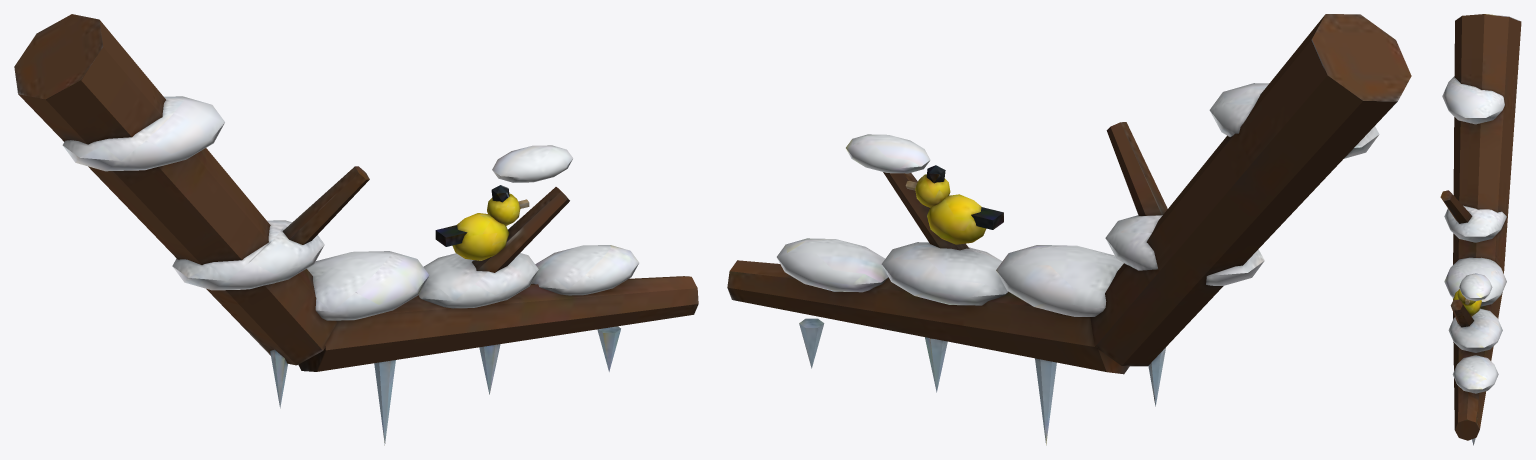
Rendered from rama_nevada.glb.
3 renders of one model, left to right at view 1: azimuth 30°, elevation 25°; view 2: azimuth 150°, elevation 25°; view 3: azimuth 270°, elevation 25°, orthographic. The views are drawn at different scales.
Visible parts, largest first — view 1: rama_nevada; view 2: rama_nevada; view 3: rama_nevada.
Part boxes in pixels (x1,y1,x2,y2): rama_nevada: [14, 14, 698, 445]; rama_nevada: [727, 14, 1411, 445]; rama_nevada: [1440, 14, 1521, 445].
Bounding box in the file's own units: 2.18 × 1.56 × 0.3872.
1 material, 1 textured.
